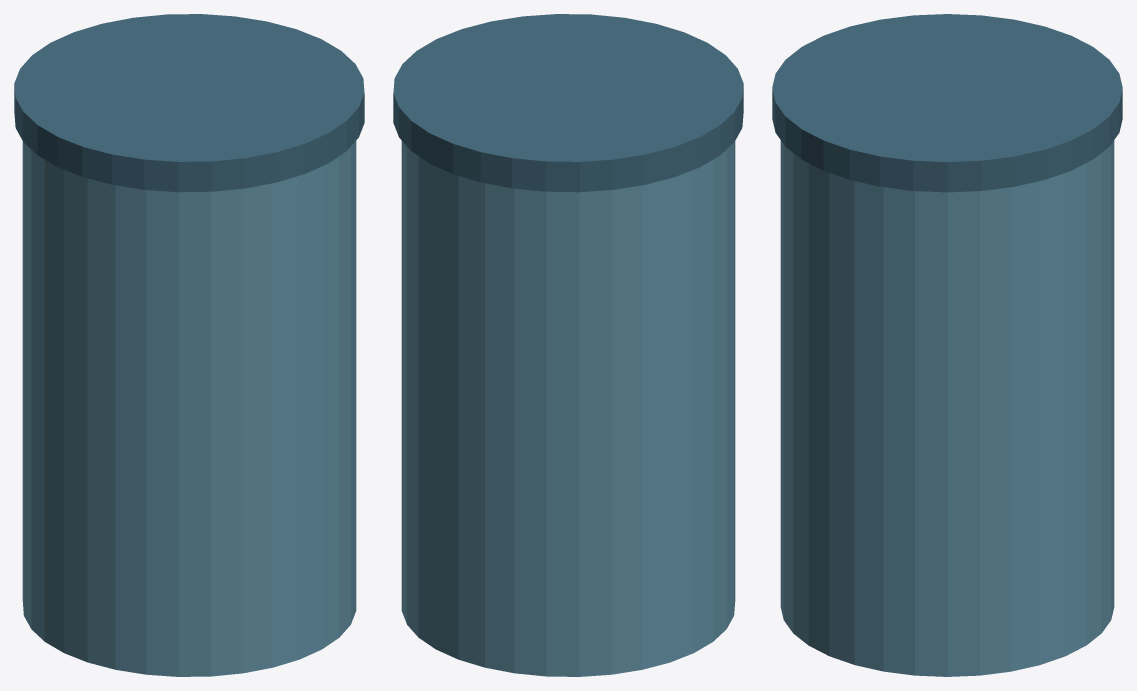
Rendered from nutrient_tank_500l_concept.obj.
3 views of the same model, side by side, from view 1: azimuth 30°, elevation 25°; view 2: azimuth 150°, elevation 25°; view 3: azimuth 270°, elevation 25° (orthographic).
Visible parts, largest first — view 1: tank_body, tank_lid; view 2: tank_body, tank_lid; view 3: tank_body, tank_lid.
Boxes of the visible parts, box(x1,y1,x2,y2) form: tank_body: box(22, 141, 356, 676); tank_lid: box(14, 14, 364, 192); tank_body: box(401, 141, 735, 676); tank_lid: box(393, 14, 743, 192); tank_body: box(780, 140, 1114, 676); tank_lid: box(772, 14, 1122, 192).
Size of the model in its own units: 0.84 by 1.37 by 0.84.
